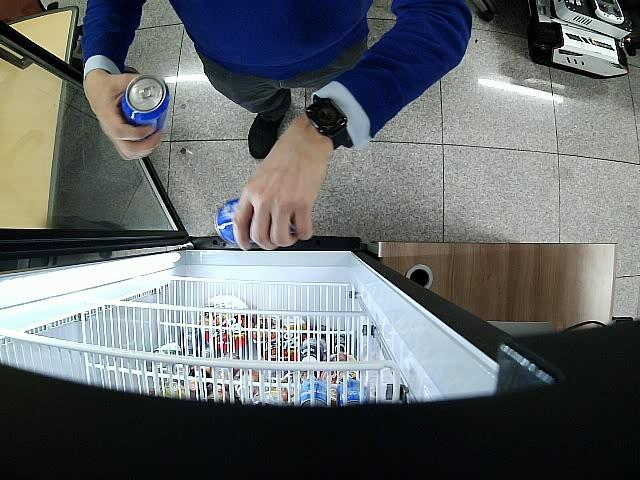00_hand: (234, 136, 332, 251), (85, 72, 163, 160)
13_pocariSweat: (121, 76, 170, 128), (215, 196, 240, 242)
